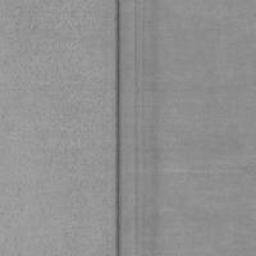Welding line: (114, 0, 123, 256)
